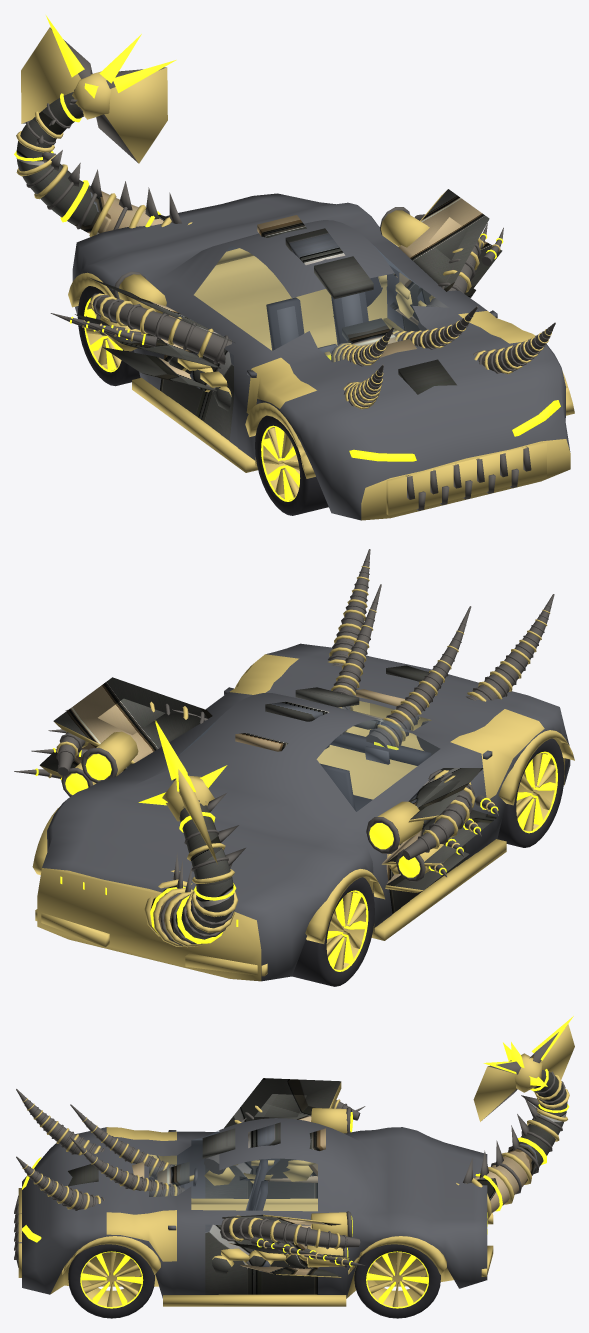
Rendered from dragon_car_c_gold.glb.
3 views of the same model, one above another, from view 1: azimuth 30°, elevation 25°; view 2: azimuth 150°, elevation 25°; view 3: azimuth 270°, elevation 25° (orthographic). The views are drawn at different scales.
Visible parts, largest first — view 1: Body_Chassis, Dragon_Tail, Dragon_Wings, Dragon_Horns, Wheel_FL, Wheel_RL; view 2: Body_Chassis, Dragon_Wings, Dragon_Tail, Dragon_Horns, Wheel_RL, Wheel_FL; view 3: Body_Chassis, Dragon_Wings, Dragon_Tail, Dragon_Horns, Wheel_FR, Wheel_RR.
Boxes of the visible parts, <box> form: Body_Chassis: <box>68,193,574,520</box>; Dragon_Tail: <box>14,15,192,236</box>; Dragon_Wings: <box>50,189,503,391</box>; Dragon_Horns: <box>331,306,555,409</box>; Wheel_FL: <box>255,415,328,515</box>; Wheel_RL: <box>77,286,140,386</box>; Body_Chassis: <box>32,643,574,981</box>; Dragon_Wings: <box>14,677,498,892</box>; Dragon_Tail: <box>138,720,245,947</box>; Dragon_Horns: <box>328,549,554,755</box>; Wheel_RL: <box>292,877,374,986</box>; Wheel_FL: <box>497,738,564,847</box>; Body_Chassis: <box>14,1118,493,1306</box>; Dragon_Wings: <box>204,1078,365,1277</box>; Dragon_Tail: <box>456,1016,574,1220</box>; Dragon_Horns: <box>16,1089,184,1210</box>; Wheel_FR: <box>68,1244,154,1318</box>; Wheel_RR: <box>354,1244,440,1318</box>.
Bounding box in the file's own units: 3.48 × 2.26 × 5.18.
Materials: 8 (1 with a texture image).
